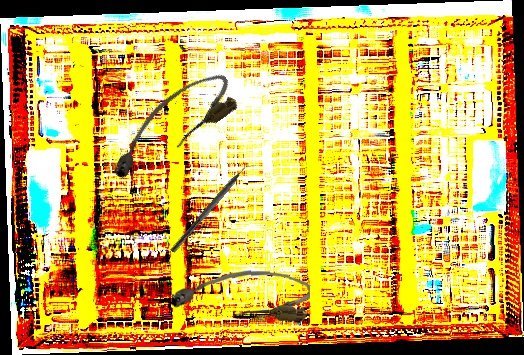Cannula: (96, 63, 244, 188), (170, 265, 312, 323)
Chopper: (170, 157, 258, 259)
